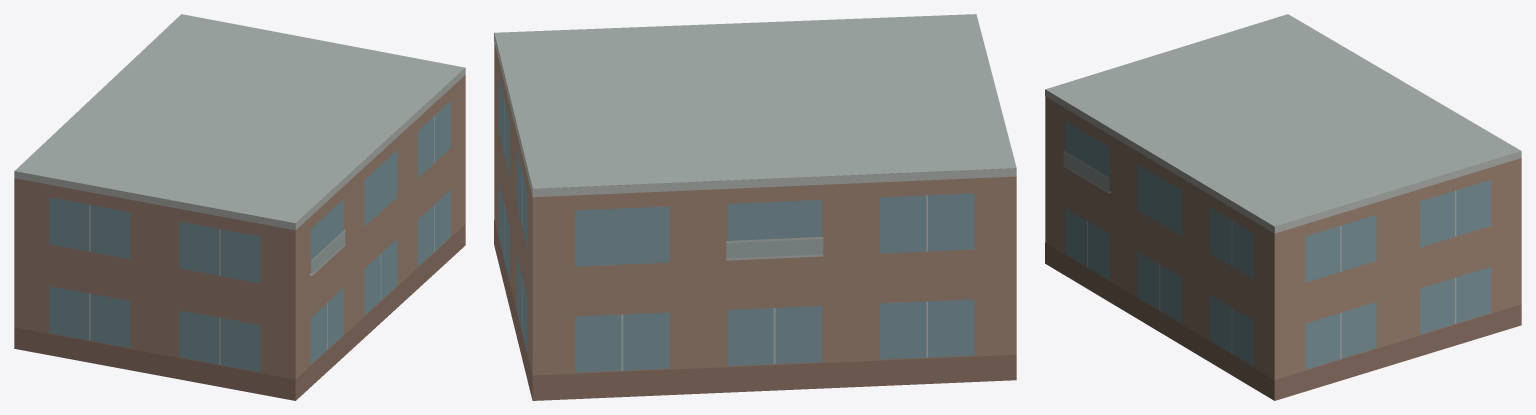
Rendered from survey-upis-32774047.glb.
The picture shows the model from 3 angles, left to right: view 1: azimuth 30°, elevation 25°; view 2: azimuth 150°, elevation 25°; view 3: azimuth 270°, elevation 25°; orthographic projection. The views are drawn at different scales.
Visible parts, largest first — view 1: survey-upis-32774047.tmp; view 2: survey-upis-32774047.tmp; view 3: survey-upis-32774047.tmp.
Part boxes in pixels (x1,y1,x2,y2): survey-upis-32774047.tmp: (14, 14, 465, 400); survey-upis-32774047.tmp: (494, 14, 1016, 400); survey-upis-32774047.tmp: (1045, 14, 1521, 400).
Size of the model in its own units: 15.98 by 6.1 by 15.13.
